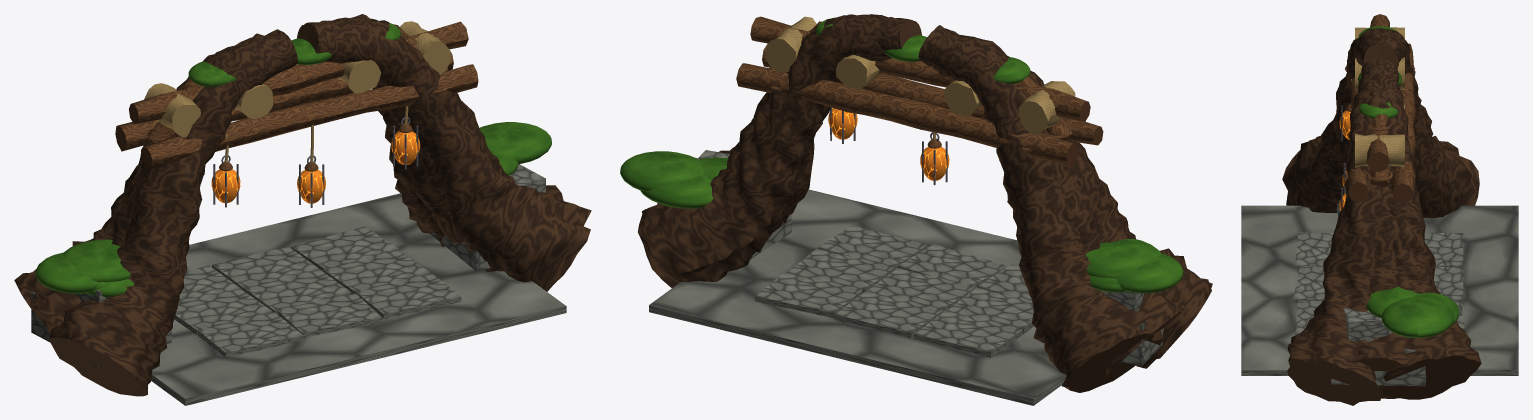
The model's file is env_ancient_root_archway.glb.
3 renders of one model, left to right at view 1: azimuth 30°, elevation 25°; view 2: azimuth 150°, elevation 25°; view 3: azimuth 270°, elevation 25°, orthographic. The views are drawn at different scales.
Visible parts, largest first — view 1: path_slabs, root_-1_2, root_1_2, lintel, moss, rope_bindings, root_-1_1, root_1_0, root_1_1, glass (×3), root_-1_0, base_1 (+1 smaller); view 2: path_slabs, root_1_0, root_-1_0, lintel, moss, root_-1_2, root_-1_1, rope_bindings, root_1_2, glass (×2), base_-1, root_1_1 (+1 smaller); view 3: path_slabs, root_1_2, root_1_0, root_-1_2, root_-1_0, root_1_1, moss, lintel, base_1, rope_bindings, root_-1_1.
Boxes of the visible parts, x1,y1,x2,y2 form: path_slabs: [150, 193, 566, 405]; root_-1_2: [49, 30, 297, 396]; root_1_2: [304, 20, 591, 291]; lintel: [115, 21, 478, 167]; moss: [35, 21, 551, 297]; rope_bindings: [144, 21, 451, 137]; root_-1_1: [29, 29, 293, 326]; root_1_0: [297, 14, 444, 246]; root_1_1: [306, 17, 563, 244]; glass (×3): [211, 131, 420, 203]; root_-1_0: [14, 33, 285, 333]; base_1: [430, 164, 545, 271]; path_slabs: [649, 189, 1066, 405]; root_1_0: [638, 14, 909, 287]; root_-1_0: [918, 30, 1163, 392]; lintel: [736, 16, 1103, 167]; moss: [620, 17, 1183, 293]; root_-1_2: [922, 25, 1212, 368]; root_-1_1: [920, 28, 1184, 379]; rope_bindings: [765, 16, 1075, 134]; root_1_2: [696, 14, 921, 222]; glass (×2): [828, 108, 949, 180]; base_-1: [1102, 291, 1163, 365]; root_1_1: [657, 15, 913, 235]; path_slabs: [1241, 205, 1518, 375]; root_1_2: [1287, 60, 1399, 405]; root_1_0: [1363, 58, 1481, 399]; root_-1_2: [1282, 28, 1388, 212]; root_-1_0: [1360, 28, 1479, 217]; root_1_1: [1352, 59, 1428, 398]; moss: [1358, 26, 1459, 337]; lintel: [1345, 14, 1416, 202]; base_1: [1331, 307, 1426, 386]; rope_bindings: [1355, 27, 1404, 167]; root_-1_1: [1362, 28, 1400, 62].
Size of the model in its own units: 9.75 by 5.31 by 5.
7 materials, 7 textured.
